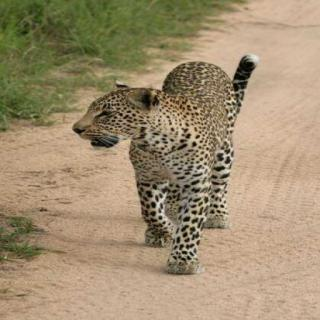Leopard: (77, 50, 308, 268)
